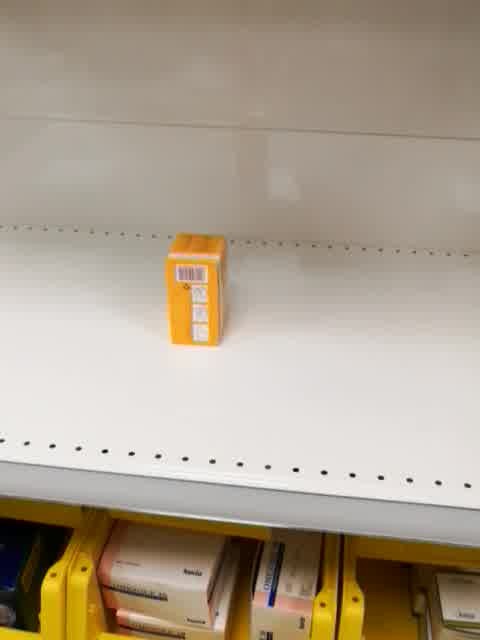jasminetea: (164, 233, 227, 347)
